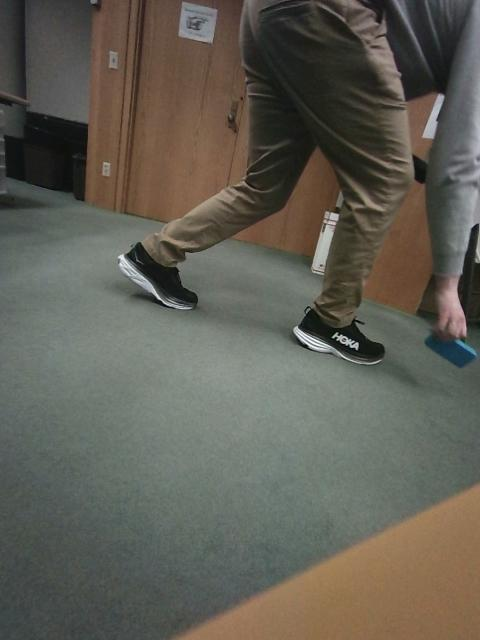block: (269, 322, 308, 362)
